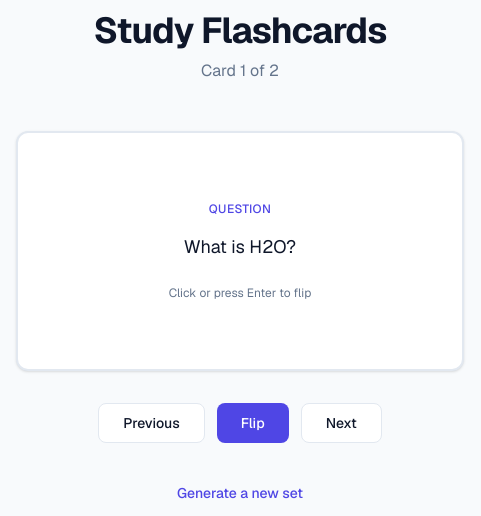
it: Study page › moves to the next and previous cards correctly
This screenshot has width=481, height=516.
Expected: the text "What is H2O?" is shown, x1=184 y1=235 x2=296 y2=258
Click the button "Next" at (341, 423), box x1=301 y1=403 x2=382 y2=443
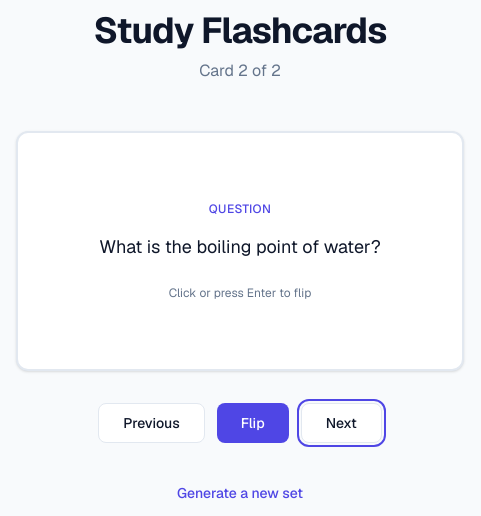
Expected: the text "What is the boiling point of water?" is shown, x1=99 y1=235 x2=381 y2=258
Expected: the text "Card 2 of 2" is shown, x1=199 y1=59 x2=281 y2=83
Click the button "Previous" at (151, 423), box x1=98 y1=403 x2=205 y2=443
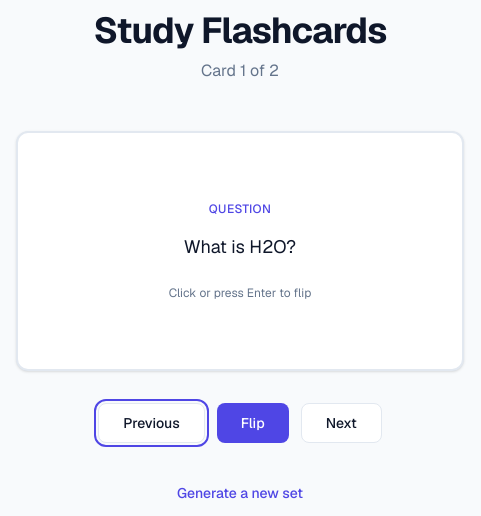
Expected: the text "What is H2O?" is shown, x1=184 y1=235 x2=296 y2=258
Expected: the text "Card 1 of 2" is shown, x1=201 y1=59 x2=279 y2=83
